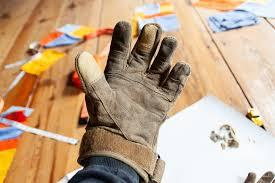gloves: (74, 21, 191, 183)
